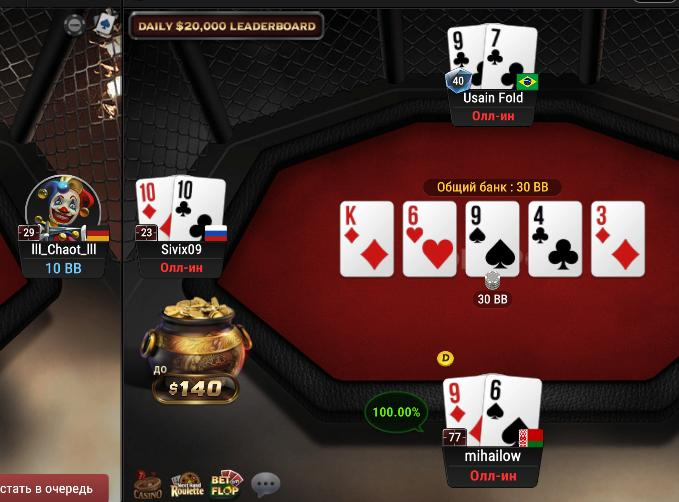10c: (173, 175, 225, 239)
10d: (135, 178, 173, 241)
3d: (591, 203, 645, 276)
4c: (530, 202, 581, 277)
6h: (403, 203, 456, 276)
6s: (484, 374, 542, 447)
7c: (485, 25, 538, 90)
9c: (447, 25, 484, 89)
9d: (443, 378, 483, 444)
9s: (466, 201, 520, 277)
Kd: (340, 202, 393, 275)
